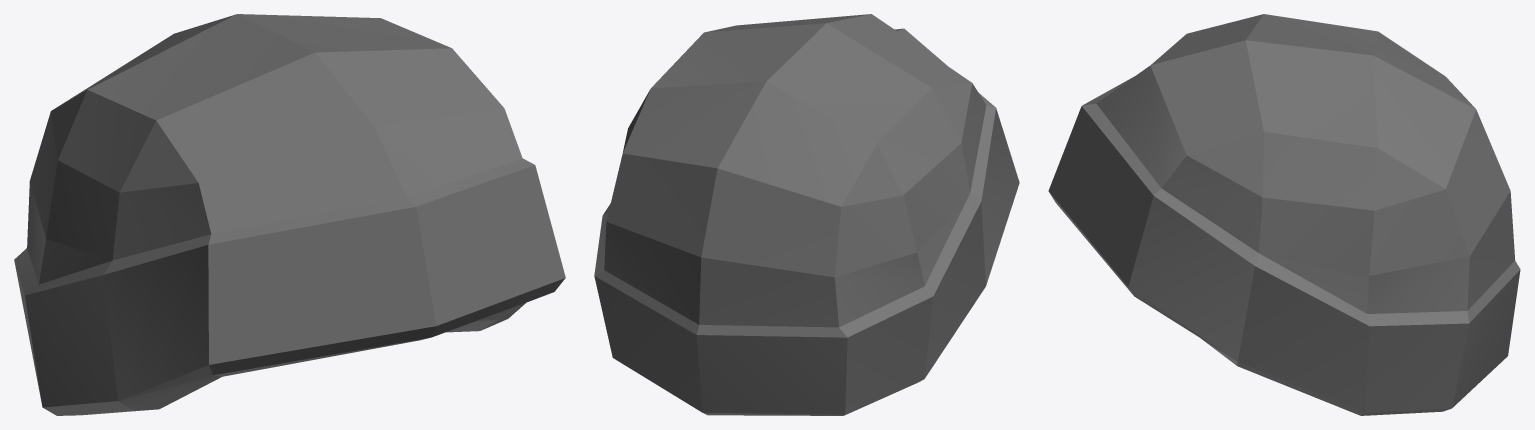
The model's file is Beanie_01_SM.FBX.
3 views of the same model, side by side, from view 1: azimuth 30°, elevation 25°; view 2: azimuth 150°, elevation 25°; view 3: azimuth 270°, elevation 25° (orthographic). The views are drawn at different scales.
Parts seen in each view (by area): view 1: Beanie_01_SM; view 2: Beanie_01_SM; view 3: Beanie_01_SM.
Part boxes in pixels (left/top/right/bottom): Beanie_01_SM: left=14, top=14, right=565, bottom=415; Beanie_01_SM: left=594, top=14, right=1019, bottom=415; Beanie_01_SM: left=1048, top=14, right=1520, bottom=415.
Size of what is drawn, in the model's own units: 23.07 by 26.97 by 20.32.
